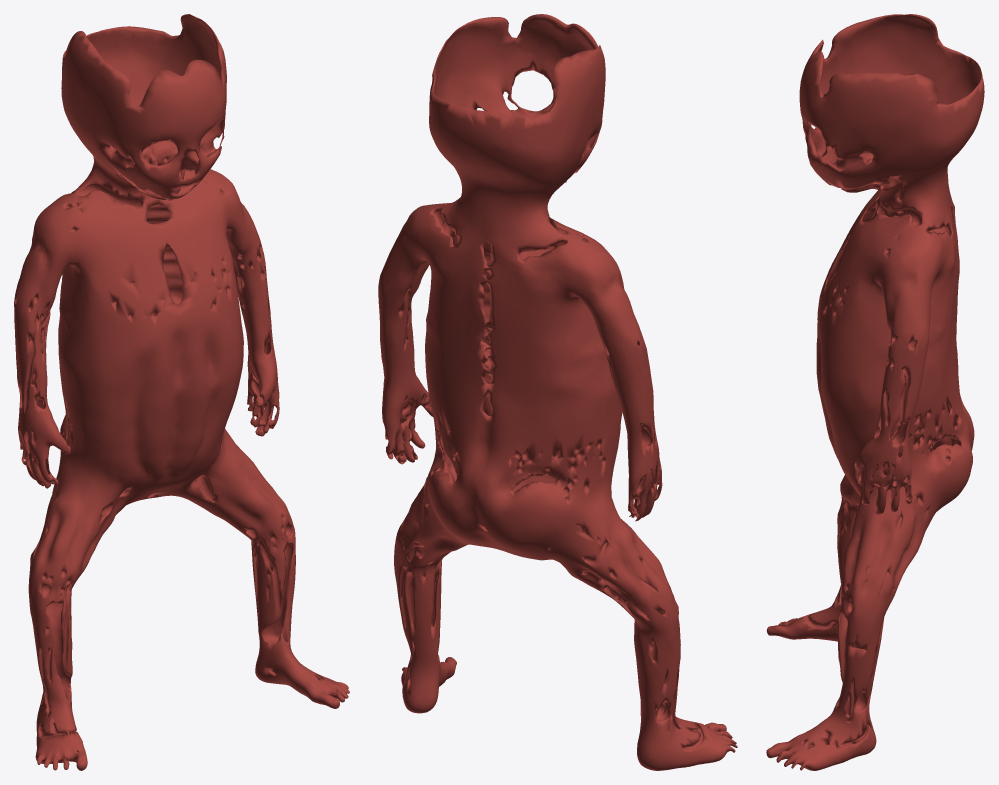
File: pediatric_neonate_male.muscular.LOD0.glb
The picture shows the model from 3 angles, left to right: view 1: azimuth 30°, elevation 25°; view 2: azimuth 150°, elevation 25°; view 3: azimuth 270°, elevation 25°; orthographic projection. The views are drawn at different scales.
Parts seen in each view (by area): view 1: PEDIATRIC.NEONATE.MALE.MUSCULAR.MUSCLE; view 2: PEDIATRIC.NEONATE.MALE.MUSCULAR.MUSCLE; view 3: PEDIATRIC.NEONATE.MALE.MUSCULAR.MUSCLE.
Boxes of the visible parts, <box> form: PEDIATRIC.NEONATE.MALE.MUSCULAR.MUSCLE: <box>14,14,349,770</box>; PEDIATRIC.NEONATE.MALE.MUSCULAR.MUSCLE: <box>378,14,737,770</box>; PEDIATRIC.NEONATE.MALE.MUSCULAR.MUSCLE: <box>766,14,984,770</box>.
Size of the model in its own units: 0.2247 by 0.4631 by 0.1381.
